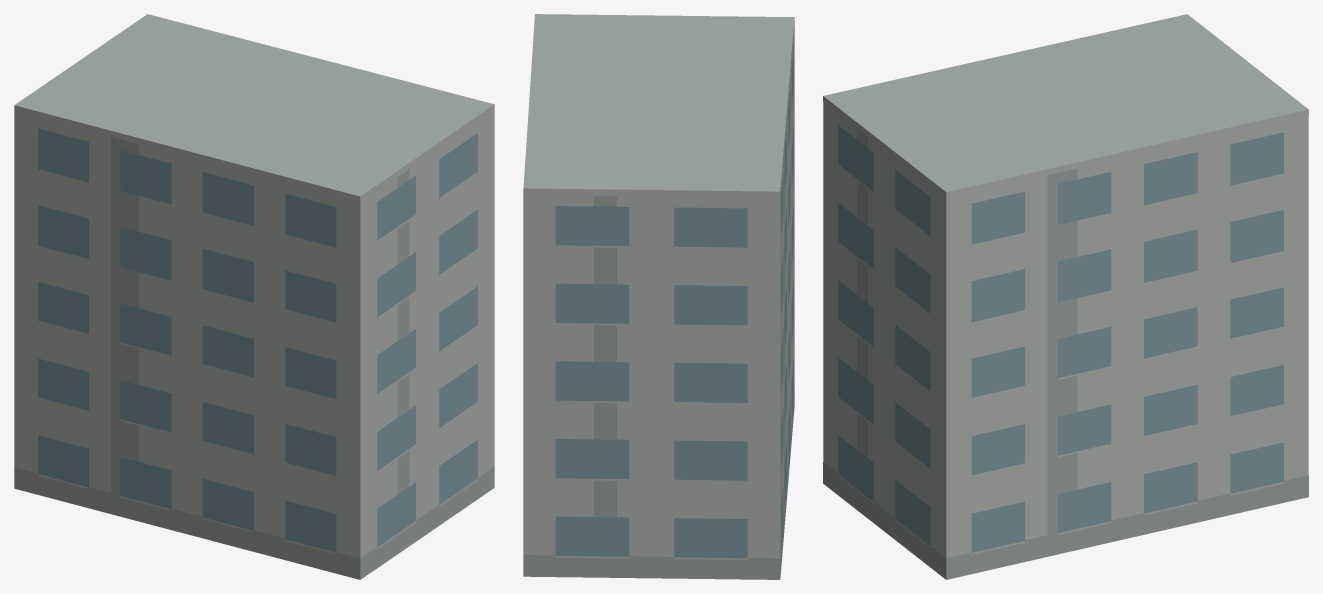
Rendered from survey-upis-32768309.glb.
3 views of the same model, side by side, from view 1: azimuth 30°, elevation 25°; view 2: azimuth 150°, elevation 25°; view 3: azimuth 270°, elevation 25° (orthographic).
Parts seen in each view (by area): view 1: survey-upis-32768309.tmp; view 2: survey-upis-32768309.tmp; view 3: survey-upis-32768309.tmp.
Boxes of the visible parts, box(x1,y1,x2,y2) form: survey-upis-32768309.tmp: box(14, 14, 494, 579); survey-upis-32768309.tmp: box(523, 14, 794, 579); survey-upis-32768309.tmp: box(823, 14, 1308, 579).
Bounding box in the file's own units: 15.05 × 15.25 × 17.33.
